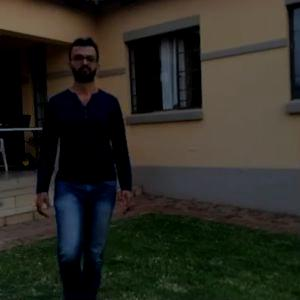follow: (32, 36, 132, 299)
